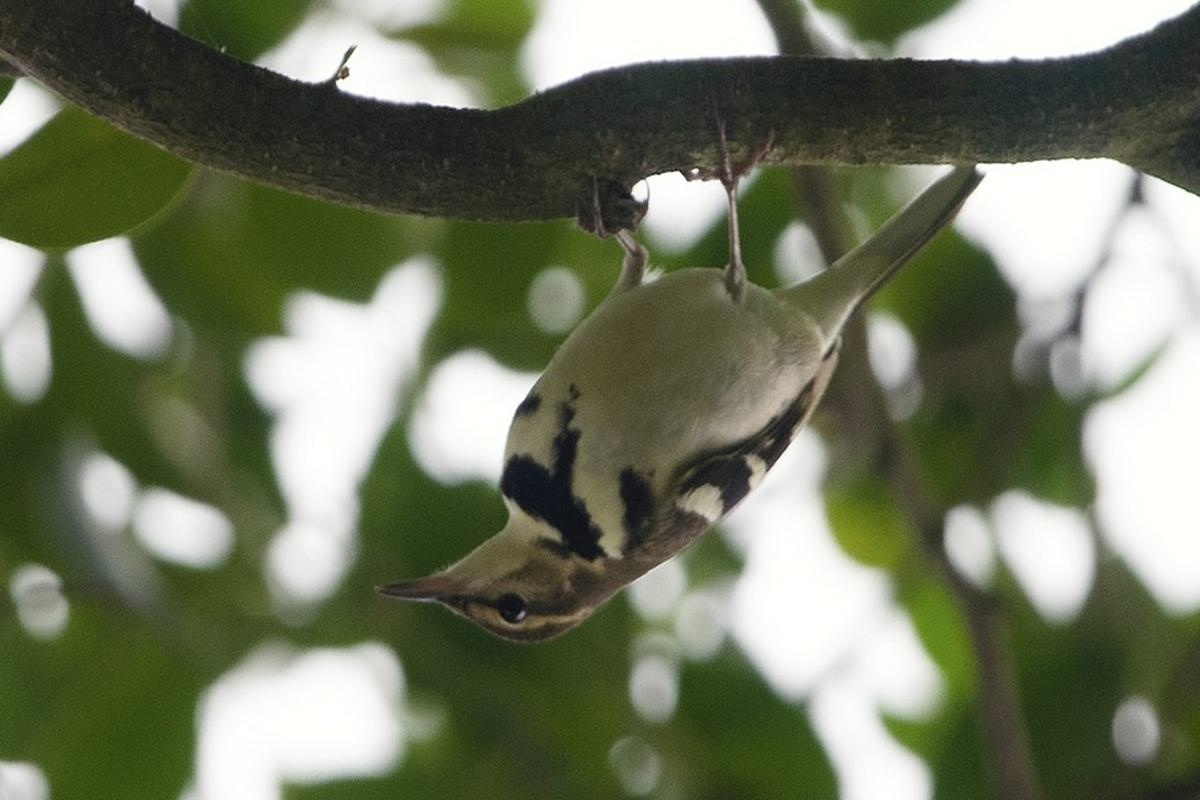wagtail: (396, 196, 941, 650)
